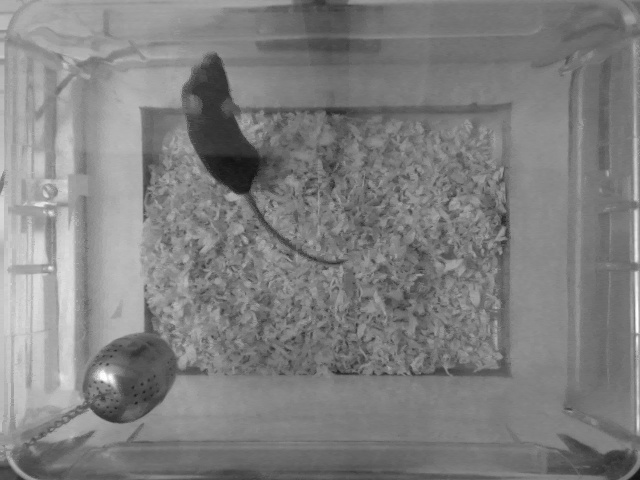mice: (179, 52, 352, 269)
